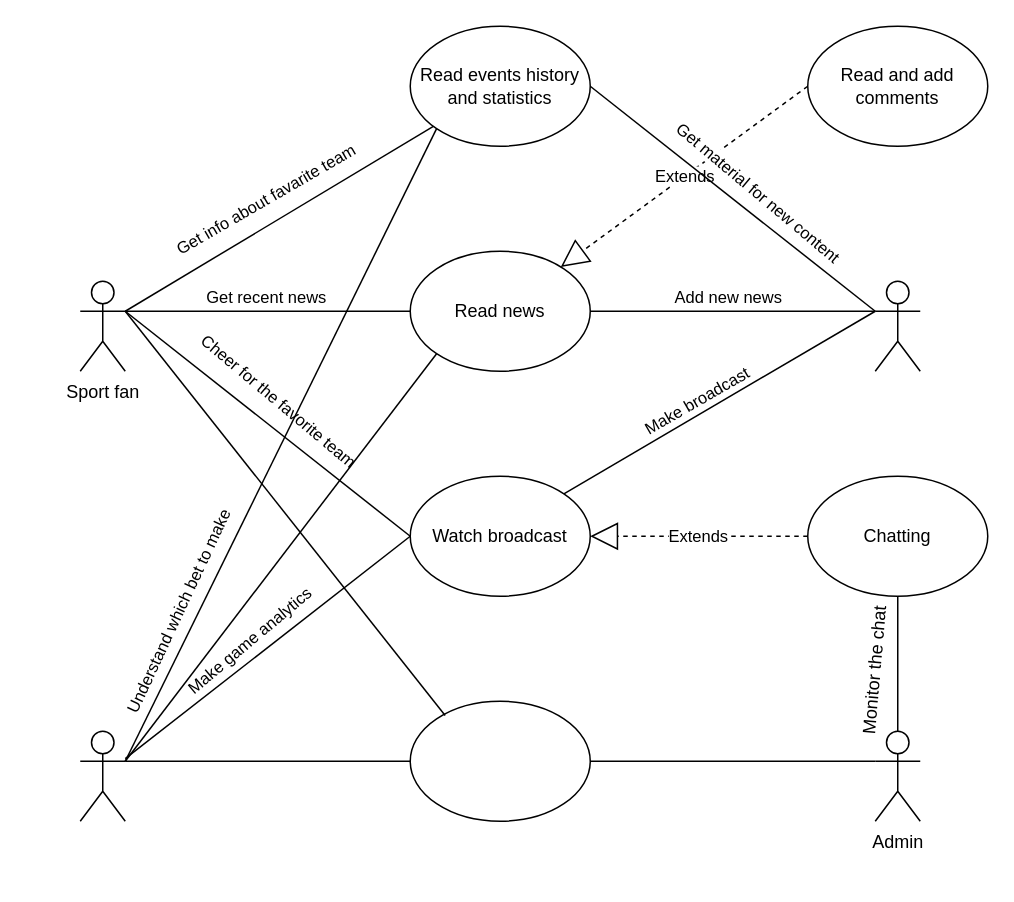
The diagram is 1014 pixels wide and 902 high, and some of its shapes have lost their labels. Here are the shapes that lost their labels. From the top down, the box of each, then its label:
(874, 280, 920, 371): Content creator
(79, 730, 125, 821): Person who makes sports betting
(409, 700, 590, 821): Support
